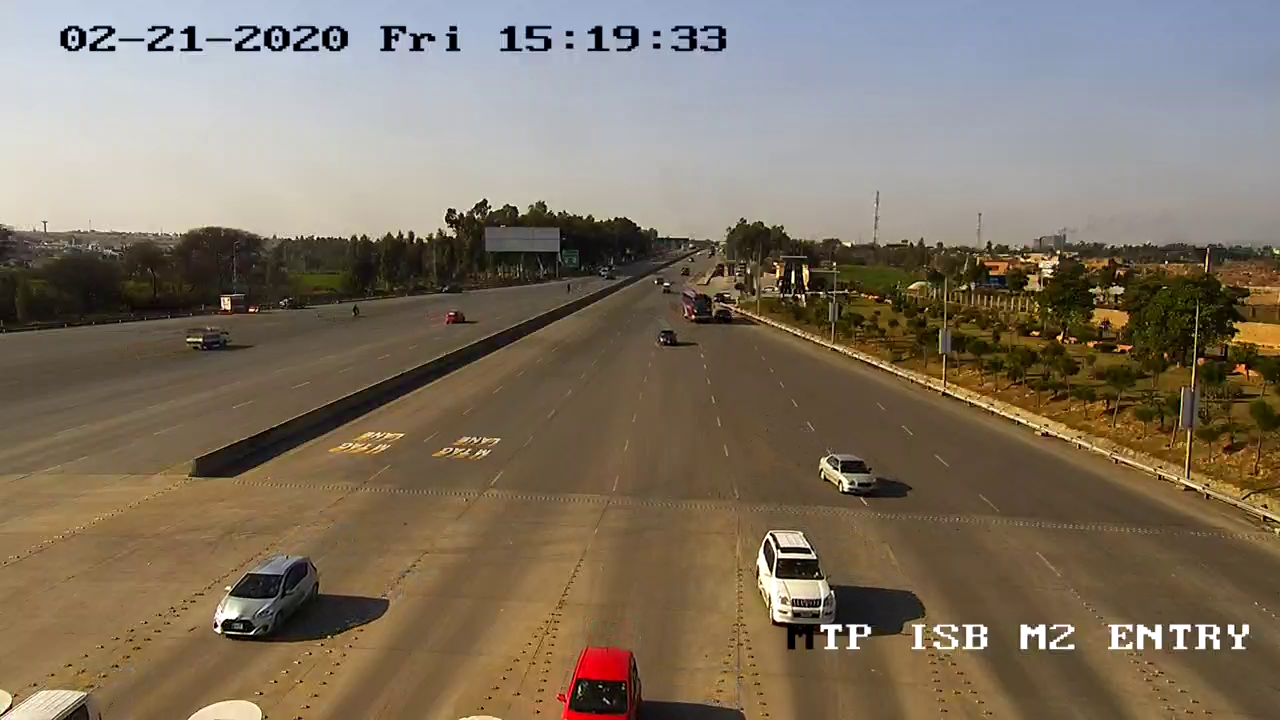f1: (205, 546, 334, 646), (751, 522, 839, 632), (813, 442, 887, 507)
